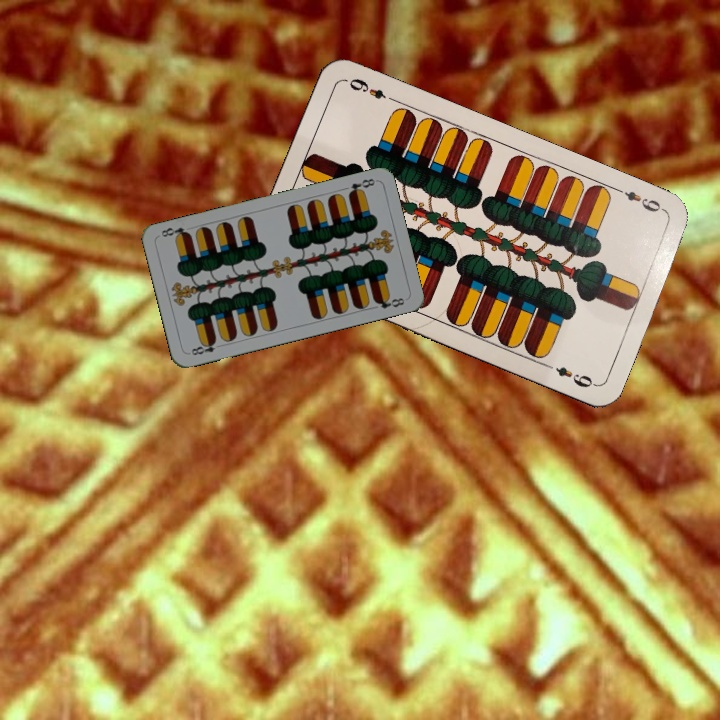E8: (185, 336, 225, 358), (344, 174, 377, 198)
E9: (612, 184, 668, 215)
